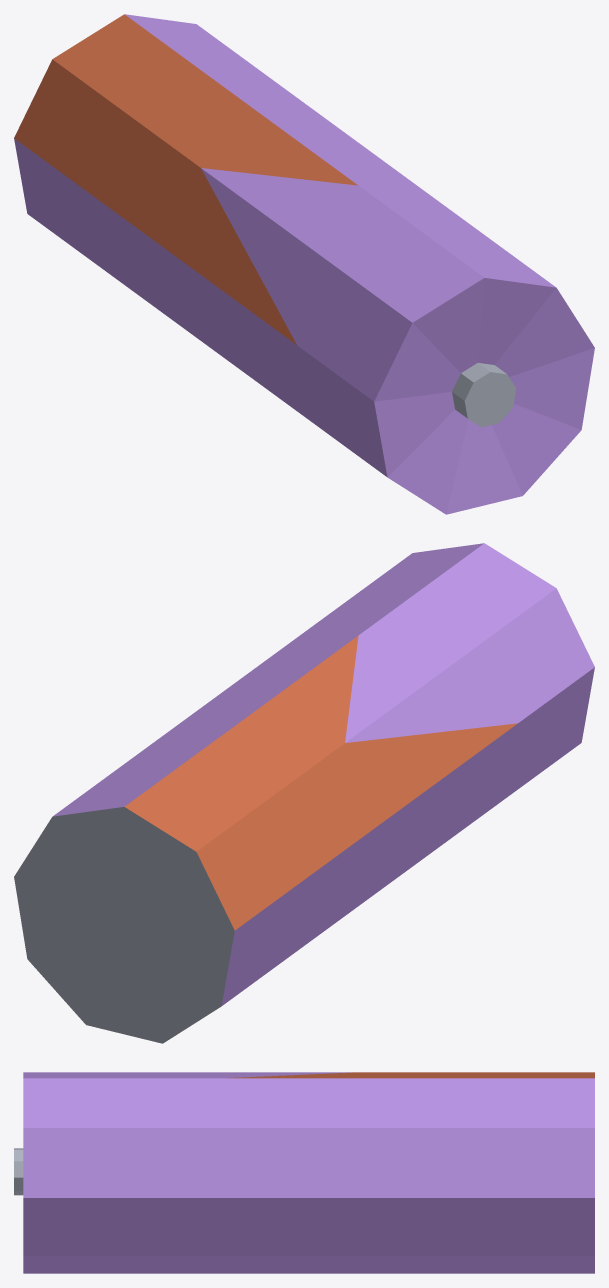
File: GenericBattery.fbx
3 renders of one model, top to bottom at view 1: azimuth 30°, elevation 25°; view 2: azimuth 150°, elevation 25°; view 3: azimuth 270°, elevation 25°, orthographic. The views are drawn at different scales.
Visible parts, largest first — view 1: Generic; view 2: Generic; view 3: Generic.
Part boxes in pixels (x1=…): Generic: x1=14, y1=14, x2=594, y2=514; Generic: x1=14, y1=543, x2=594, y2=1043; Generic: x1=14, y1=1072, x2=594, y2=1273.
Size of the model in its own units: 59.07 by 58.17 by 170.
